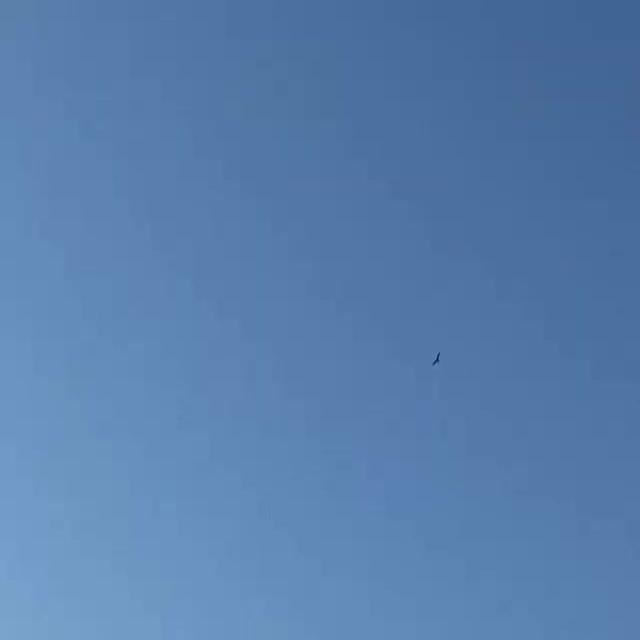bird: (426, 347, 452, 367)
